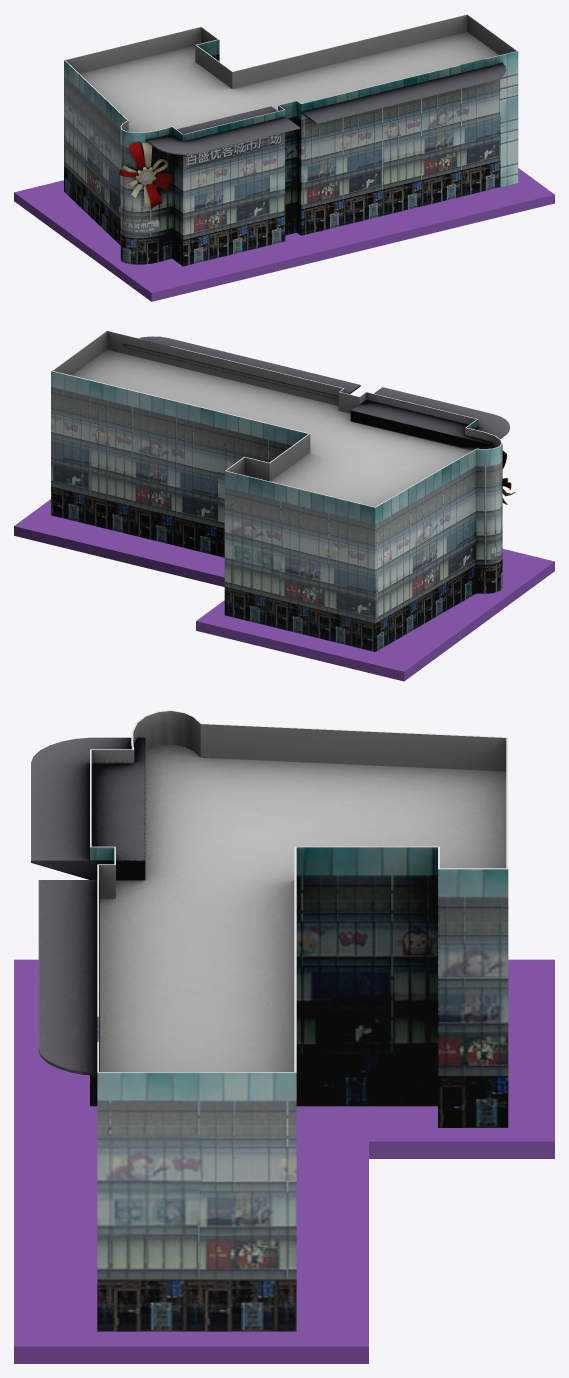
File: bsyk.gltf
3 views of the same model, one above another, from view 1: azimuth 30°, elevation 25°; view 2: azimuth 150°, elevation 25°; view 3: azimuth 270°, elevation 25° (orthographic). The views are drawn at different scales.
Visible parts, largest first — view 1: polySurface2; view 2: polySurface2; view 3: polySurface2.
Boxes of the visible parts, left/top/right/bottom form: polySurface2: left=14, top=14, right=554, bottom=301; polySurface2: left=14, top=330, right=554, bottom=681; polySurface2: left=14, top=710, right=554, bottom=1363.
Size of the model in its own units: 21.98 by 7.32 by 12.99.
Materials: 1 (1 with a texture image).
